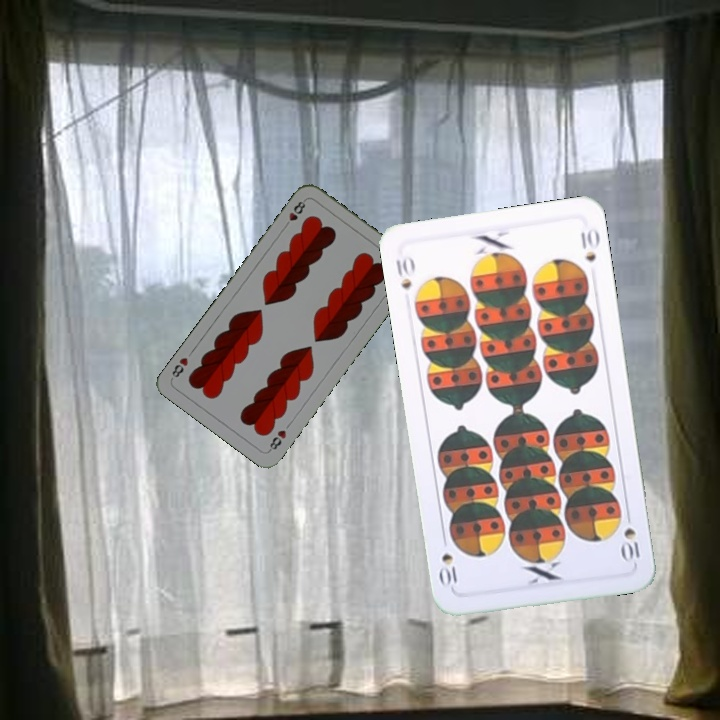H8: (280, 195, 309, 231), (265, 426, 289, 454)
S10: (619, 523, 642, 566), (391, 253, 417, 291)
